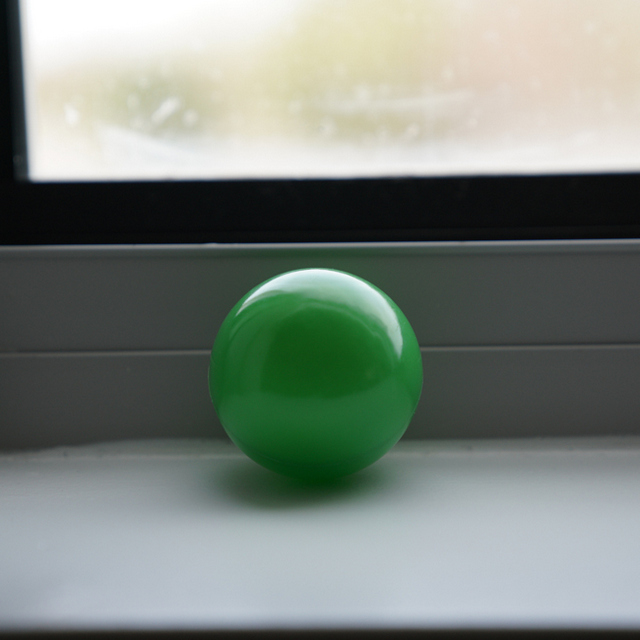Ball: (203, 269, 422, 483)
